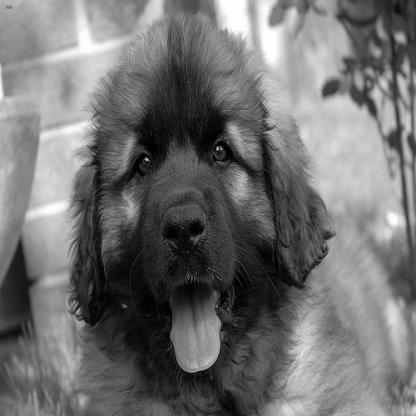Leonberger: (60, 2, 351, 415)
